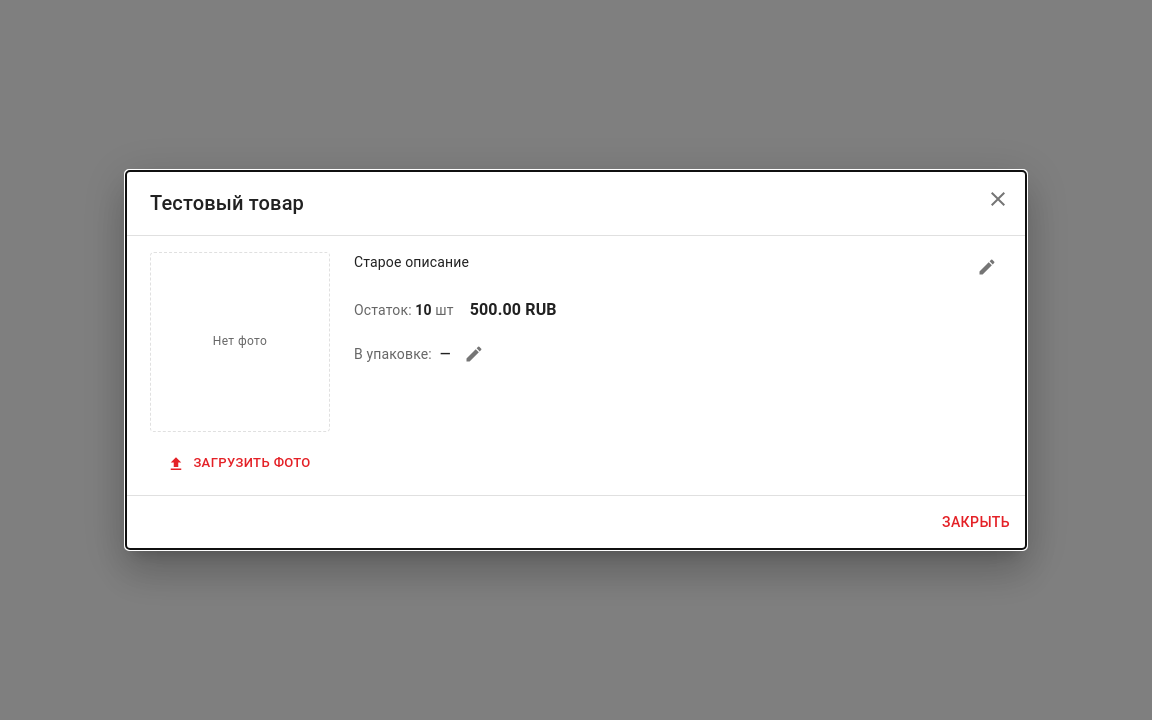
Test: ProductDetailModal — editable description (ADMIN) › открывает TextField и показывает кнопки Сохранить/Отмена
Click the button named "Редактировать описание". click: (987, 267)
box: [972,252,1002,282]
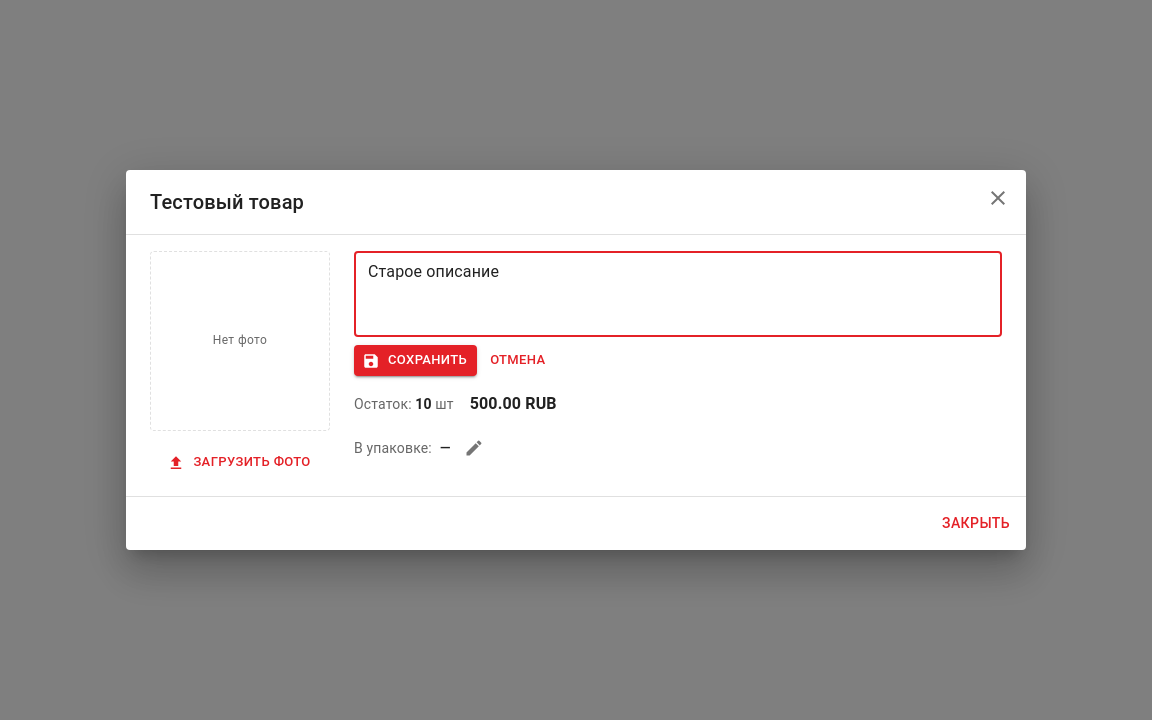
Result: the button "Сохранить" is shown at [354,345,477,376]
Result: the button "Отмена" is shown at [485,345,550,376]
